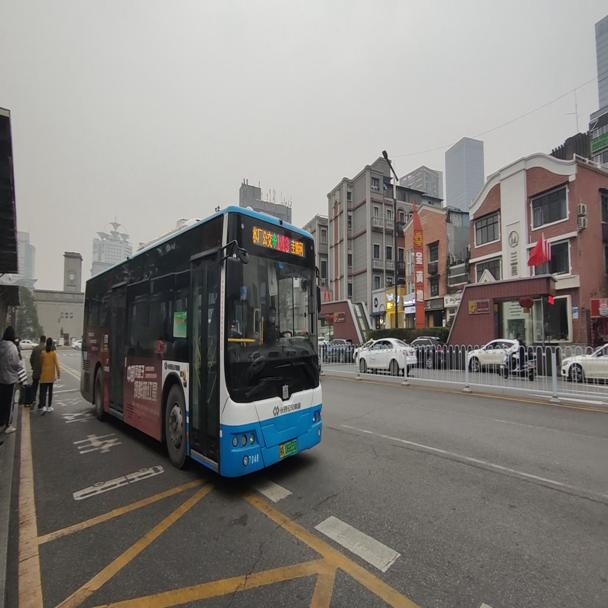bus: (79, 207, 319, 477)
screen: (275, 229, 290, 254)
